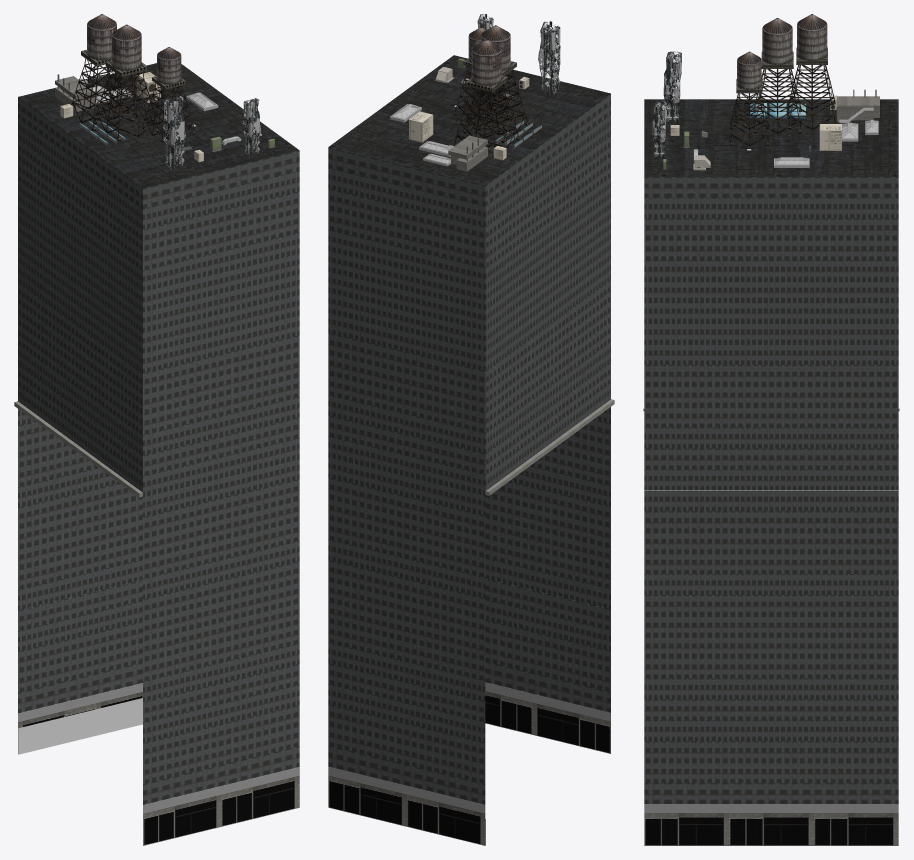
Rendered from nyc-tower.glb.
3 views of the same model, side by side, from view 1: azimuth 30°, elevation 25°; view 2: azimuth 150°, elevation 25°; view 3: azimuth 270°, elevation 25° (orthographic).
Parts seen in each view (by area): view 1: Tower_31, Tower_28, Tower_30, Tower_51, Tower_50, Tower_29, Tower_43, Tower_32, Tower_46, Tower_35, Tower_36; view 2: Tower_31, Tower_28, Tower_30, Tower_51, Tower_50, Tower_43, Tower_32, Tower_46, Tower_35, Tower_36; view 3: Tower_31, Tower_28, Tower_30, Tower_50, Tower_51, Tower_43, Tower_46, Tower_36, Tower_35, Tower_47.
Part boxes in pixels (x1,y1,x2,y2): Tower_31: [18, 97, 299, 804]; Tower_28: [18, 63, 298, 188]; Tower_30: [18, 683, 299, 845]; Tower_51: [71, 58, 195, 142]; Tower_50: [81, 14, 186, 89]; Tower_29: [18, 698, 142, 754]; Tower_43: [163, 96, 260, 169]; Tower_32: [14, 401, 143, 497]; Tower_46: [55, 76, 99, 111]; Tower_35: [60, 72, 203, 161]; Tower_36: [91, 85, 218, 111]; Tower_31: [328, 93, 610, 804]; Tower_28: [328, 55, 610, 185]; Tower_30: [328, 682, 610, 845]; Tower_51: [454, 66, 528, 157]; Tower_50: [463, 25, 516, 92]; Tower_43: [477, 14, 560, 95]; Tower_32: [485, 399, 614, 495]; Tower_46: [445, 135, 487, 171]; Tower_35: [409, 77, 529, 160]; Tower_36: [390, 104, 451, 166]; Tower_31: [644, 177, 898, 803]; Tower_28: [644, 99, 898, 176]; Tower_30: [644, 804, 898, 845]; Tower_50: [736, 14, 827, 93]; Tower_51: [729, 65, 836, 146]; Tower_43: [652, 51, 681, 158]; Tower_46: [836, 96, 879, 122]; Tower_36: [774, 120, 878, 167]; Tower_35: [670, 95, 841, 150]; Tower_47: [750, 103, 805, 118].
Size of the model in its own units: 24.47 by 111 by 33.37.
Materials: 21 (13 with a texture image).
